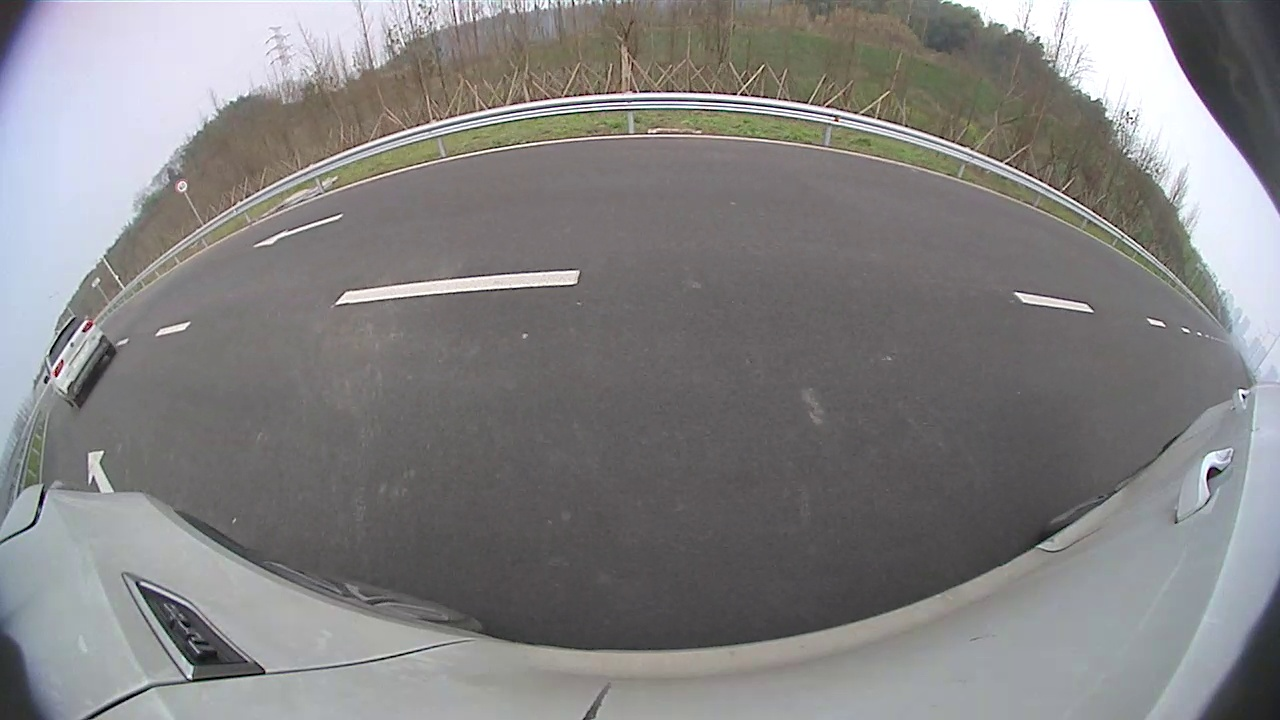car: (44, 315, 116, 409)
